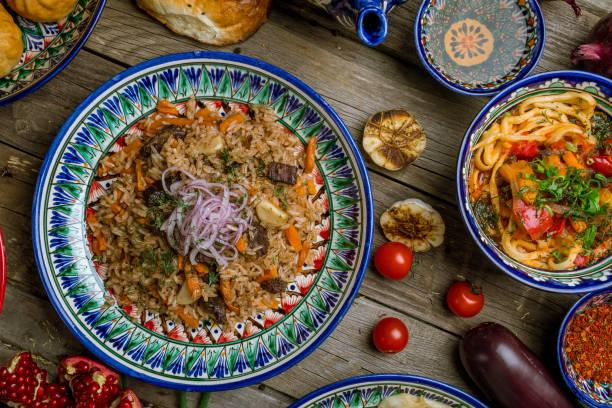Braised Crucian Carp: (34, 47, 368, 391), (459, 66, 612, 304)
